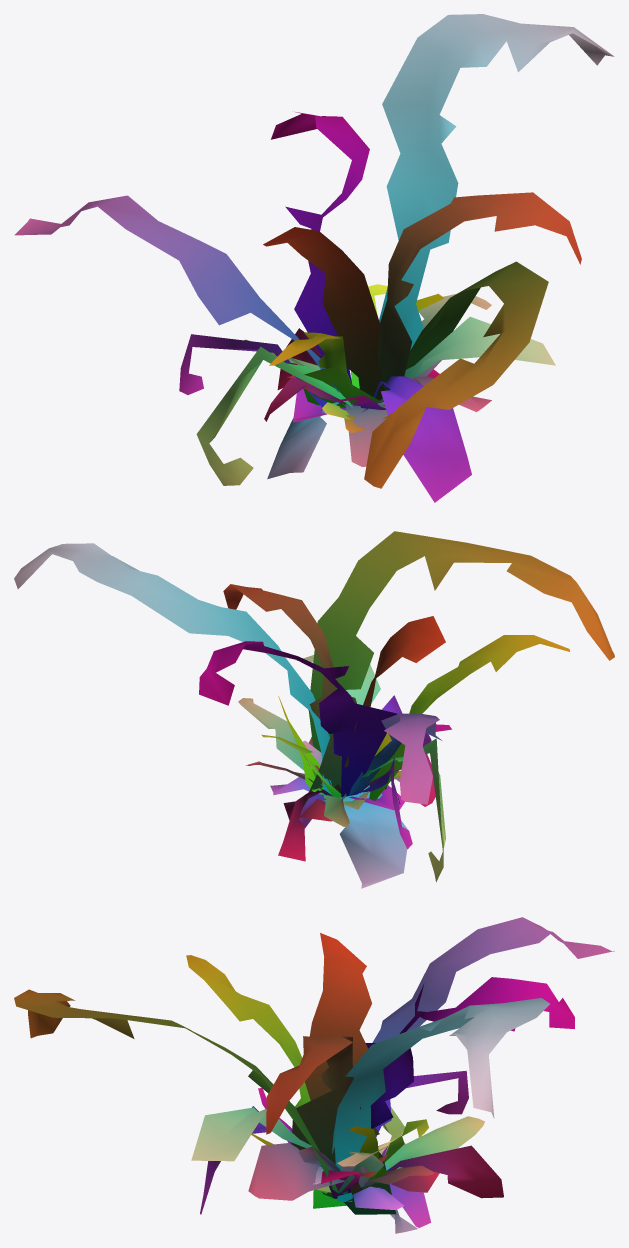
The model's file is Fern_sbslY_High_sbslY_VarB_LOD1.fbx.
3 renders of one model, top to bottom at view 1: azimuth 30°, elevation 25°; view 2: azimuth 150°, elevation 25°; view 3: azimuth 270°, elevation 25°, orthographic. The views are drawn at different scales.
Visible parts, largest first — view 1: _9a00_VarB_LOD1; view 2: _9a00_VarB_LOD1; view 3: _9a00_VarB_LOD1.
Part boxes in pixels (left/top/right/bottom): _9a00_VarB_LOD1: left=14, top=14, right=614, bottom=502; _9a00_VarB_LOD1: left=14, top=531, right=614, bottom=888; _9a00_VarB_LOD1: left=14, top=917, right=614, bottom=1233.
Size of the model in its own units: 123 by 75.82 by 122.
